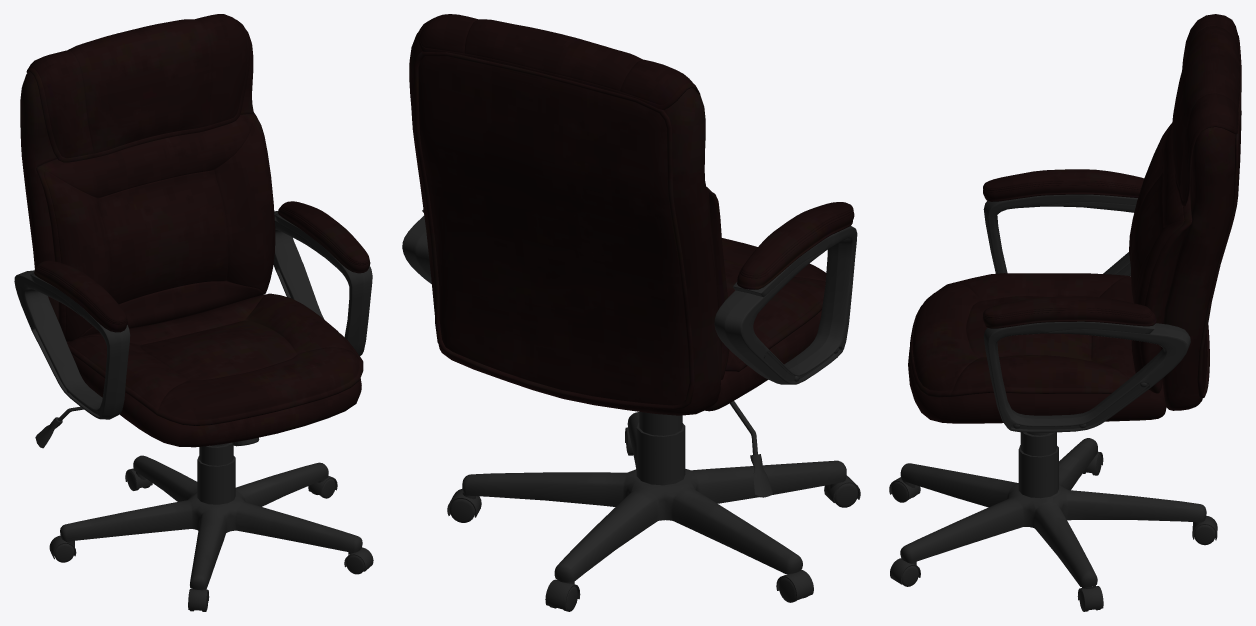
The model's file is abo-B07L3XD93D.glb.
The picture shows the model from 3 angles, left to right: view 1: azimuth 30°, elevation 25°; view 2: azimuth 150°, elevation 25°; view 3: azimuth 270°, elevation 25°; orthographic projection. The views are drawn at different scales.
Size of the model in its own units: 0.724 by 1.11 by 0.724.
1 material, 1 textured.
